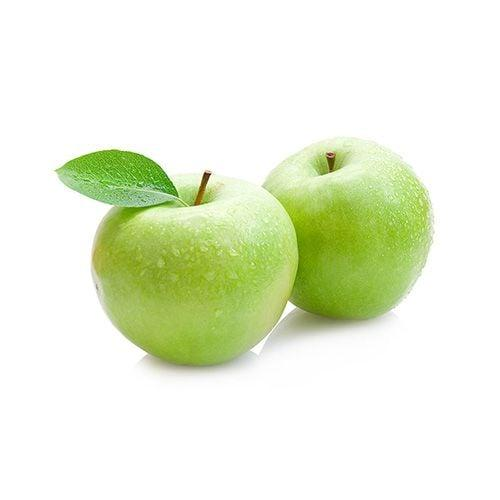apples: (49, 98, 453, 408)
